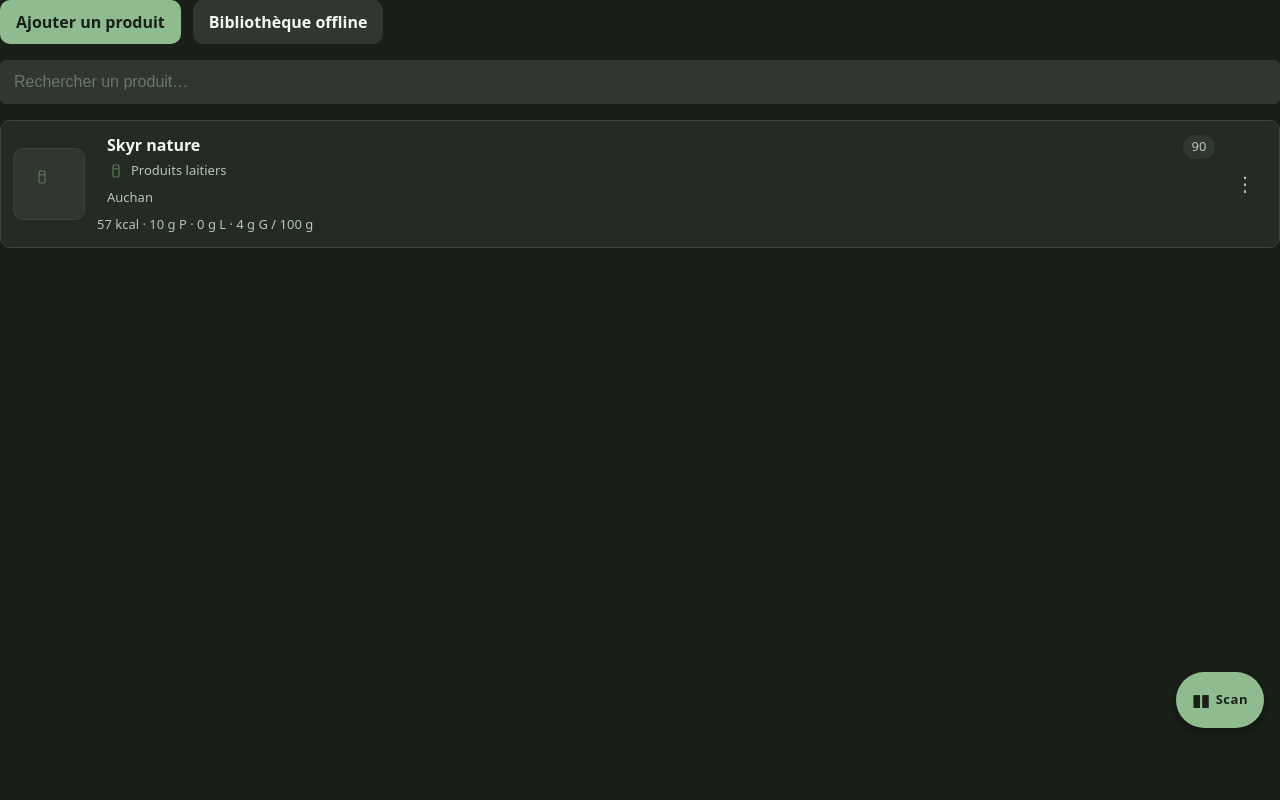
ProductsPageComponent › closes the menu on backdrop or × and keeps the URL
Click the button "⋮" at [1245, 184], box [1223,162,1267,206]
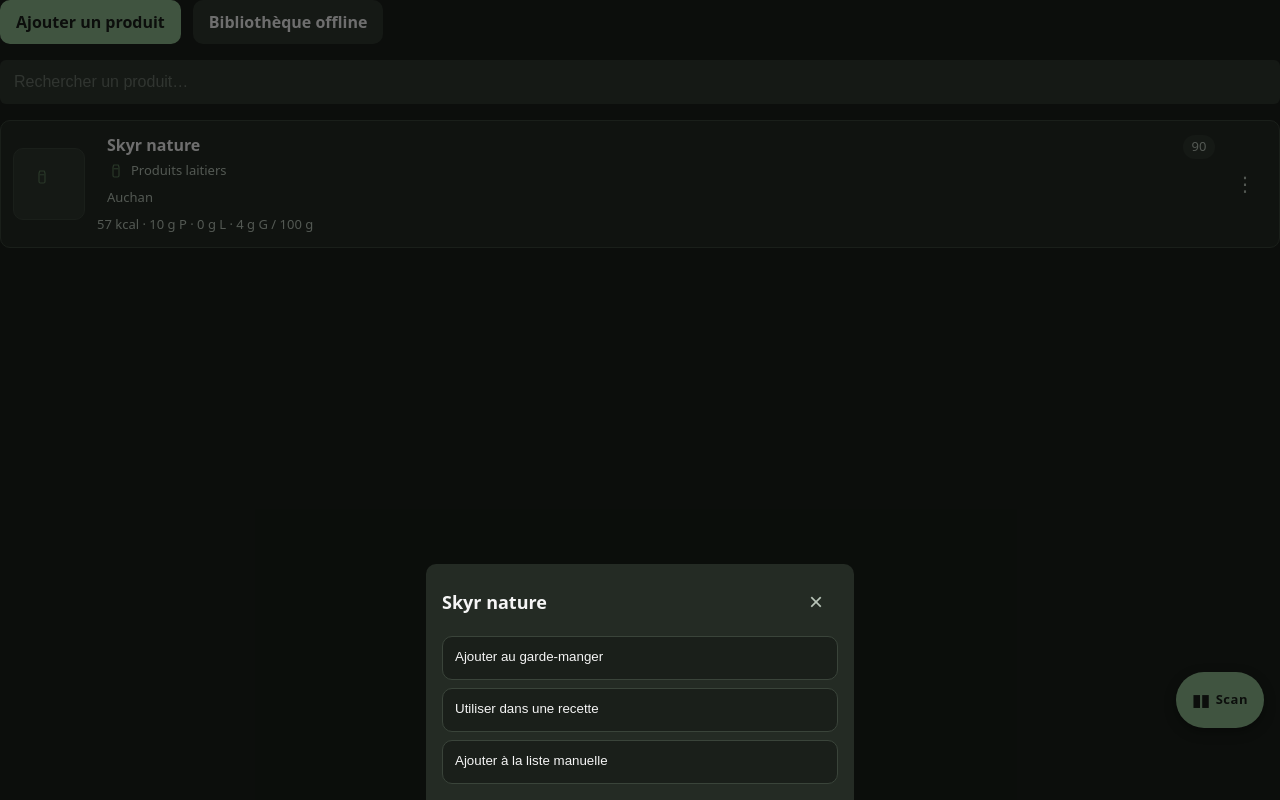
Click the element that starts with "Skyr nature" at [640, 400], box [0,0,1279,799]
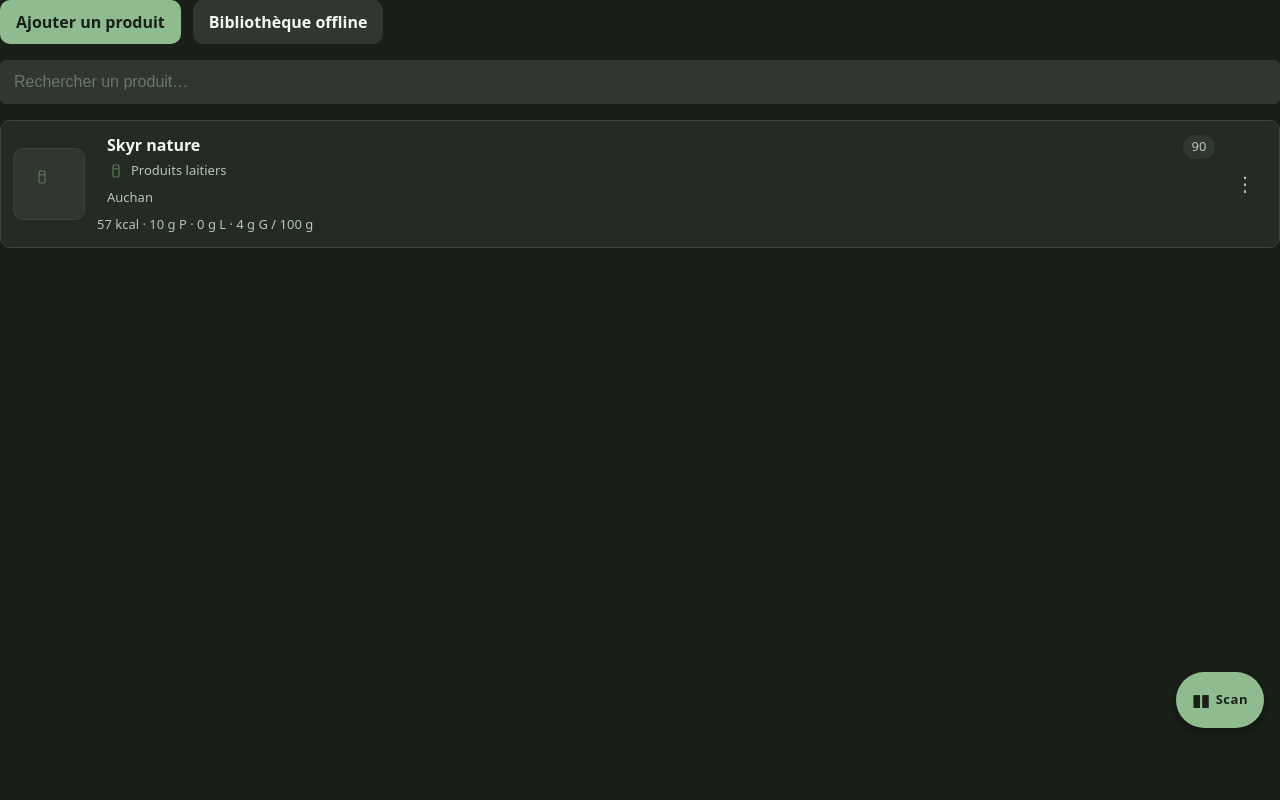
Expected: the dialog is gone
Click the button "⋮" at [1245, 184], box [1223,162,1267,206]
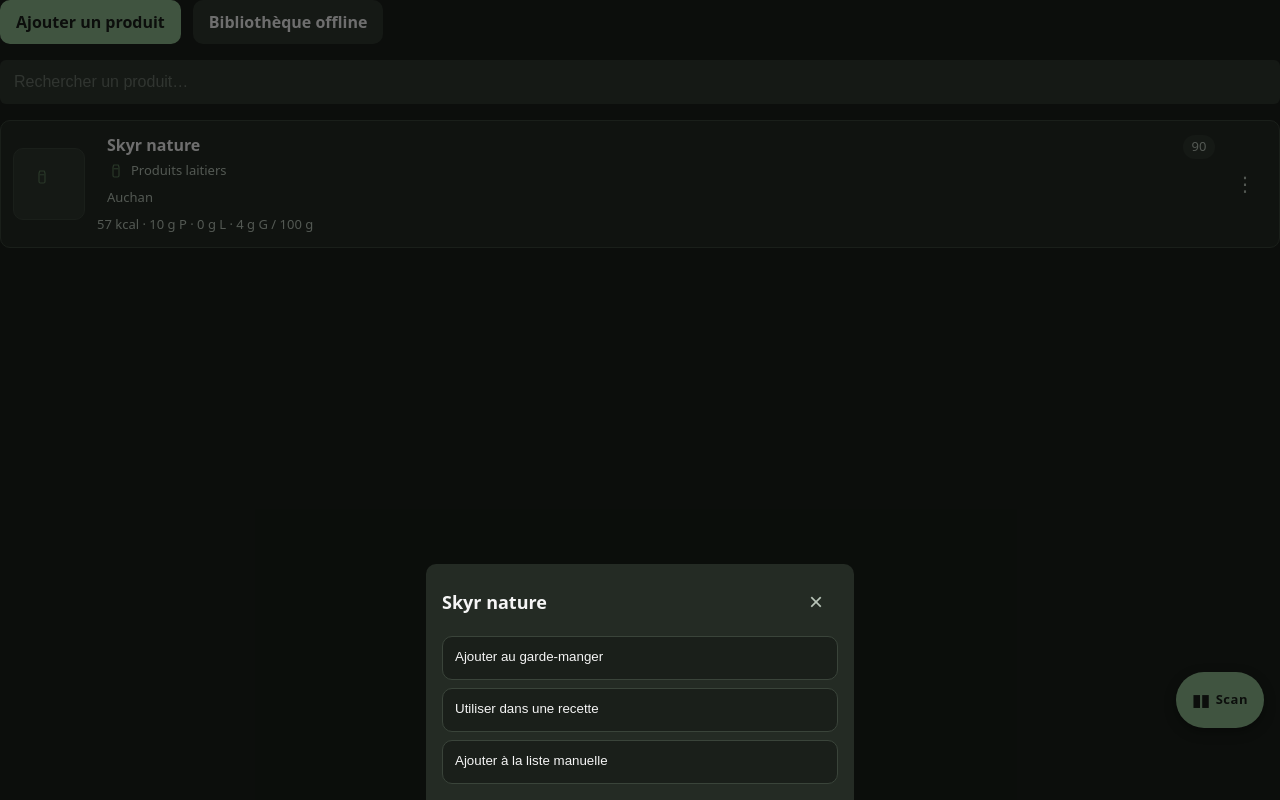
Click the button with class "sheet__close" at [816, 602], box [794,580,838,624]
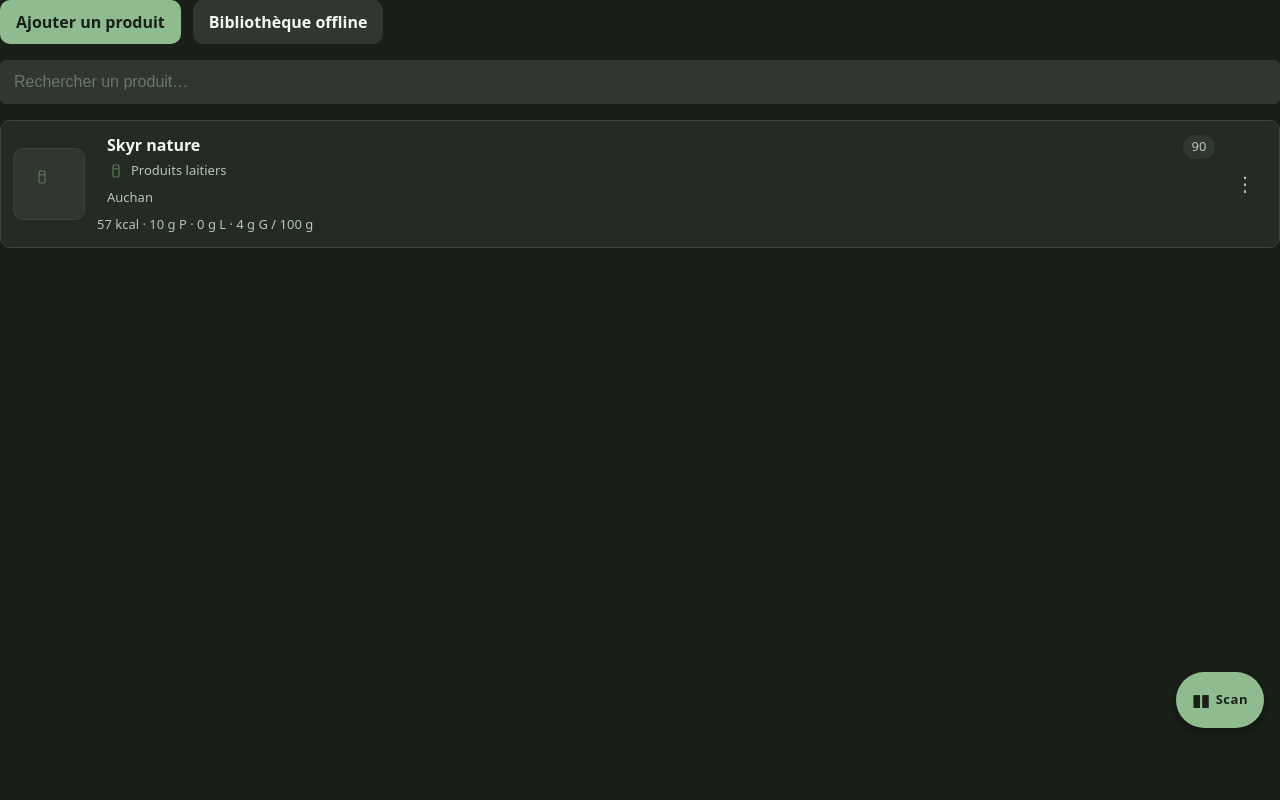
Expected: the dialog is gone
